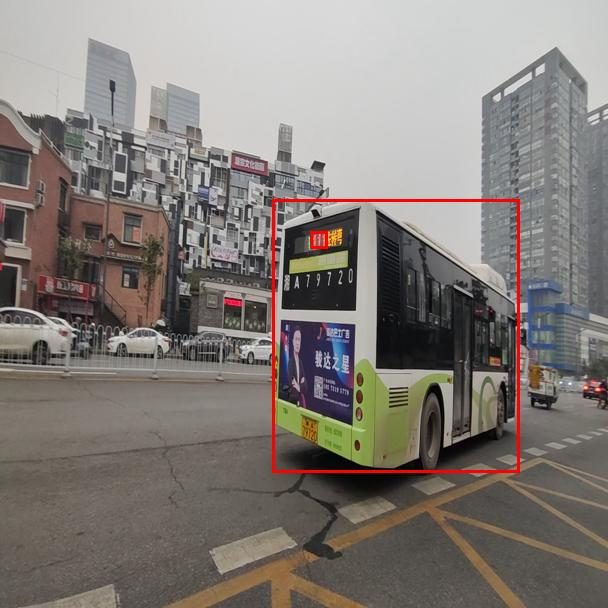bus: (272, 199, 519, 472)
screen: (310, 231, 327, 248)
